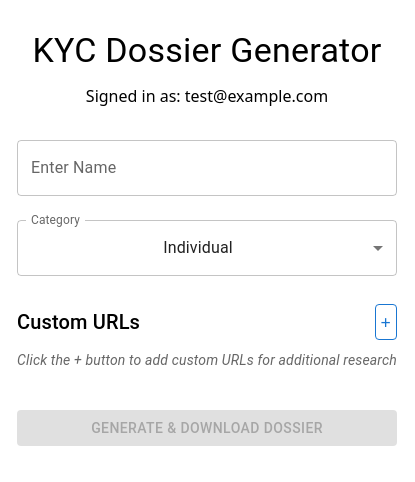
Test: App Integration › displays error message when submission fails
Note: Fill in form and submit
In the field labelled "Enter Name": [207, 168] box [17,140,397,196], type "Test User"
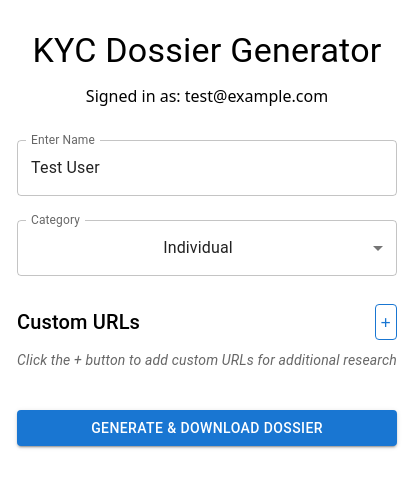
Click the button "Generate & Download Dossier": [207, 428] box [17,410,397,446]
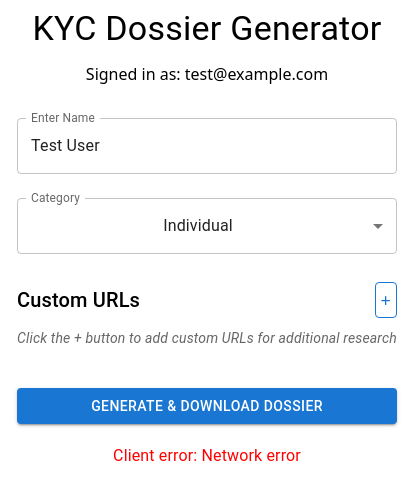
Now the text "Client error: Network error" is shown, box [113,446,301,465]
